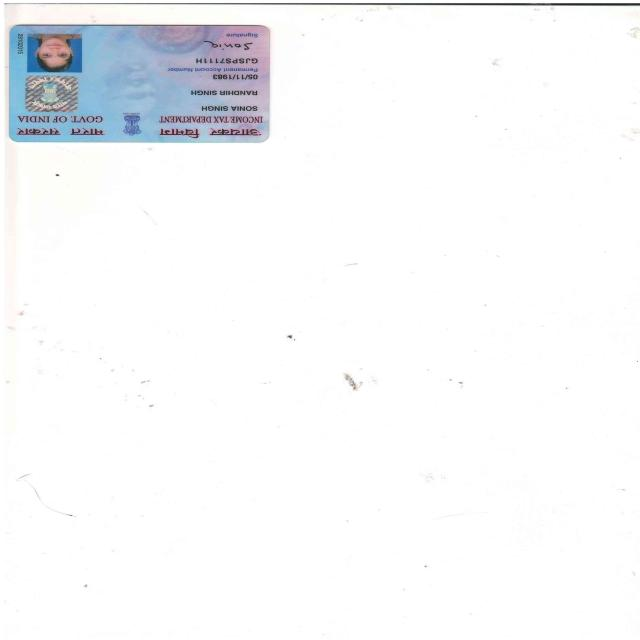pan_card: (5, 25, 268, 139)
